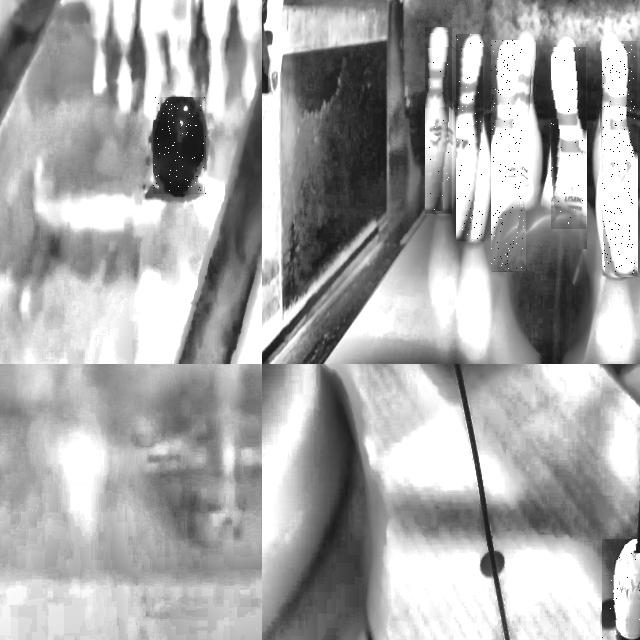bowling-ball: (507, 206, 592, 361), (153, 97, 206, 194)
bowling-pins: (603, 41, 635, 275), (492, 41, 524, 269), (552, 47, 584, 225), (456, 34, 483, 241), (426, 28, 450, 212), (518, 30, 543, 193)
